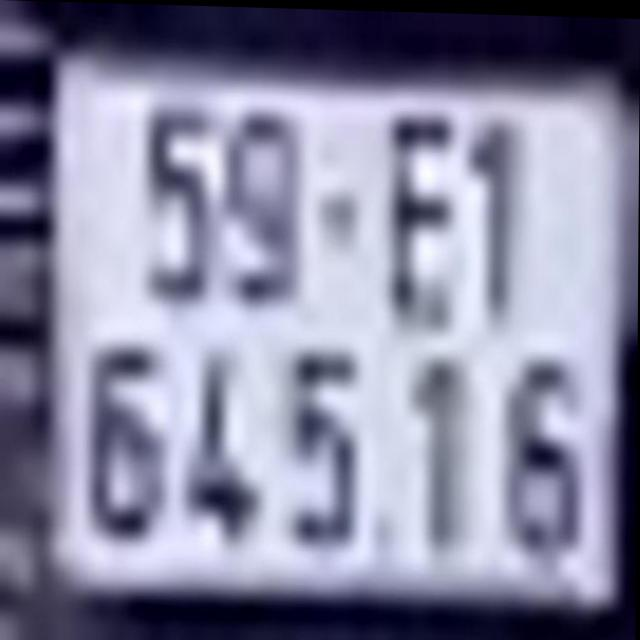1: (411, 348, 460, 549), (466, 107, 511, 315)
4: (187, 343, 259, 538)
5: (146, 95, 210, 300), (291, 342, 355, 540)
6: (493, 346, 593, 545), (93, 331, 169, 542)
9: (228, 109, 303, 306)
F: (394, 110, 462, 312)
